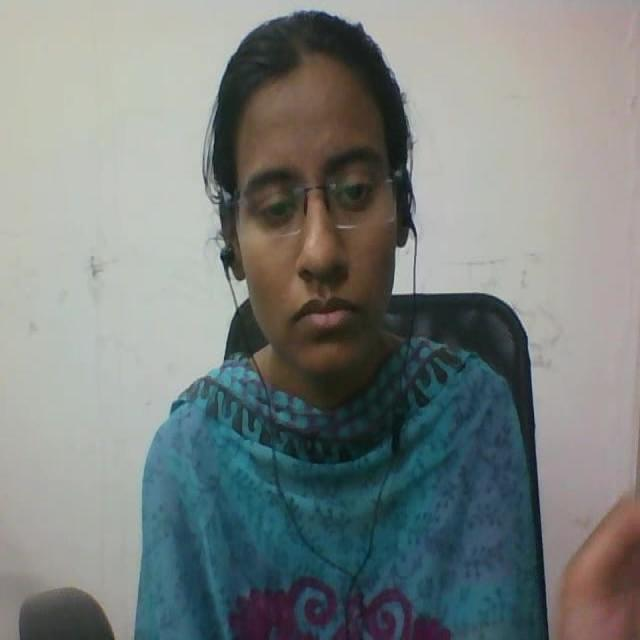Bored: (198, 11, 431, 392)
